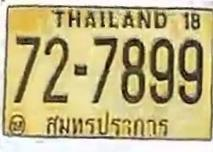2: (42, 36, 68, 103)
7: (13, 35, 40, 102), (92, 36, 118, 103)
8: (121, 36, 146, 103)
9: (178, 38, 203, 104), (149, 37, 174, 103)
SPK: (41, 109, 175, 140)
